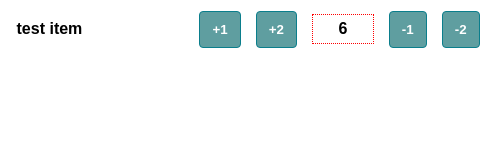
Test: ItemCounter › Should decrease count when button is pressed
The width and height of the screenshot is (497, 160).
Step 1. Click the button "-2" → click(461, 29), box top-left (442, 10), bottom-right (480, 48)
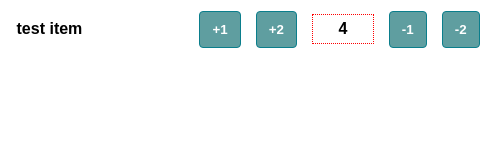
expect the text "4" is shown: met, box top-left (312, 14), bottom-right (374, 44)
